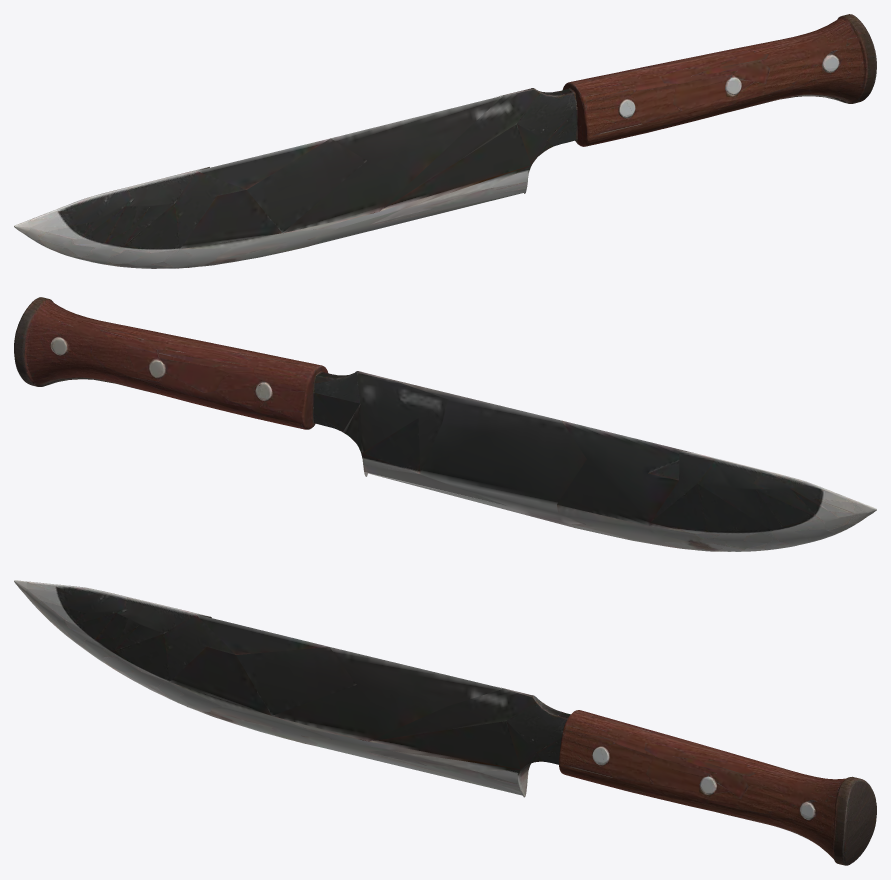
File: Cutlass.glb
3 renders of one model, top to bottom at view 1: azimuth 30°, elevation 25°; view 2: azimuth 150°, elevation 25°; view 3: azimuth 330°, elevation 25°, orthographic.
Size of the model in its own units: 1.9 by 0.2223 by 0.1273.
1 material, 1 textured.
